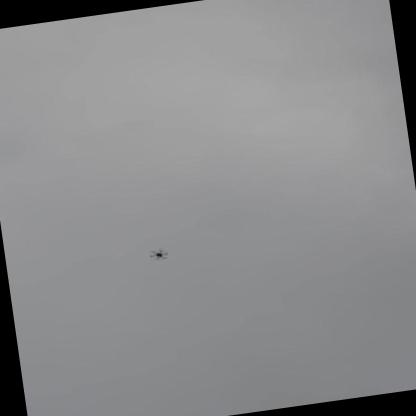drone: (145, 246, 171, 262)
